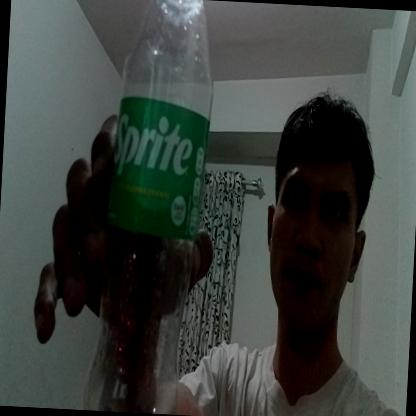plastic_bottles: (80, 0, 218, 416)
